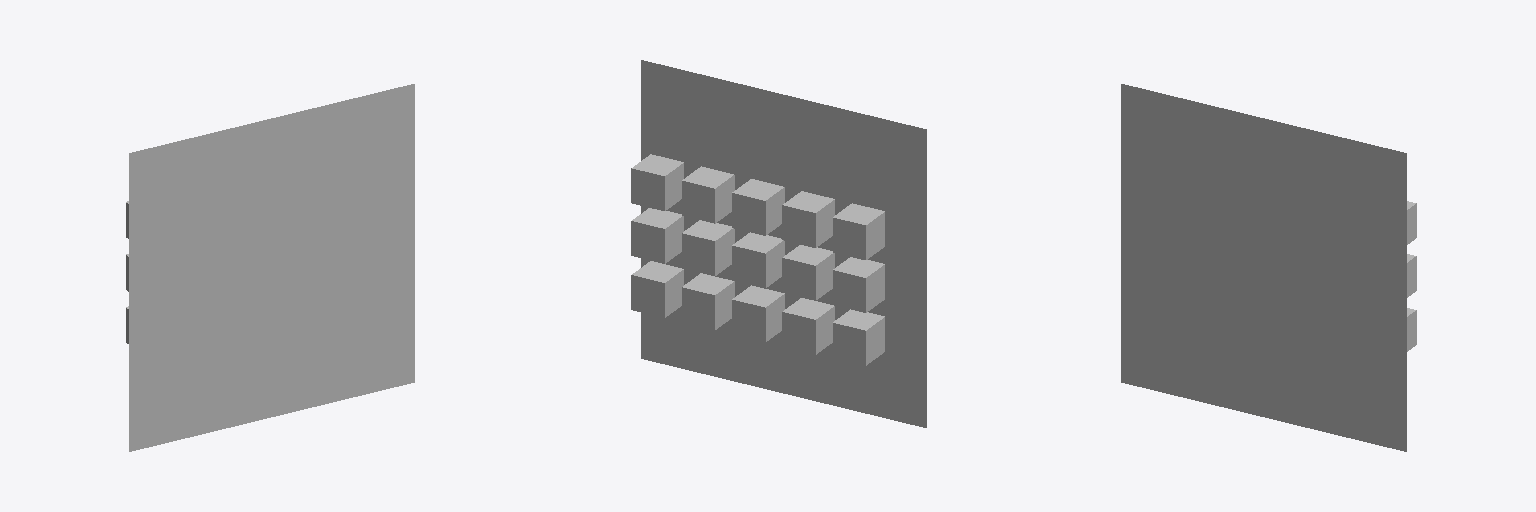
Rendered from cube_occlusion_culling_2.obj.
3 views of the same model, side by side, from view 1: azimuth 30°, elevation 25°; view 2: azimuth 150°, elevation 25°; view 3: azimuth 330°, elevation 25° (orthographic).
Parts seen in each view (by area): view 1: Plane; view 2: Plane, Cube, Cube.001, Cube.013, Cube.003, Cube.011, Cube.014, Cube.012, Cube.004, Cube.010, Cube.009, Cube.002 (+4 smaller); view 3: Plane.
Part boxes in pixels (x1,y1,x2,y2): Plane: (129,84,414,451); Plane: (641,60,926,427); Cube: (833,203,884,259); Cube.001: (631,154,683,210); Cube.013: (631,261,683,317); Cube.003: (782,191,834,247); Cube.011: (782,298,834,354); Cube.014: (833,309,884,365); Cube.012: (732,285,784,342); Cube.004: (682,166,734,223); Cube.010: (682,273,734,329); Cube.009: (833,257,884,312); Cube.002: (732,179,784,235); Plane: (1121,84,1406,451).
Bounding box in the file's own units: 17.05 × 17.05 × 3.34.